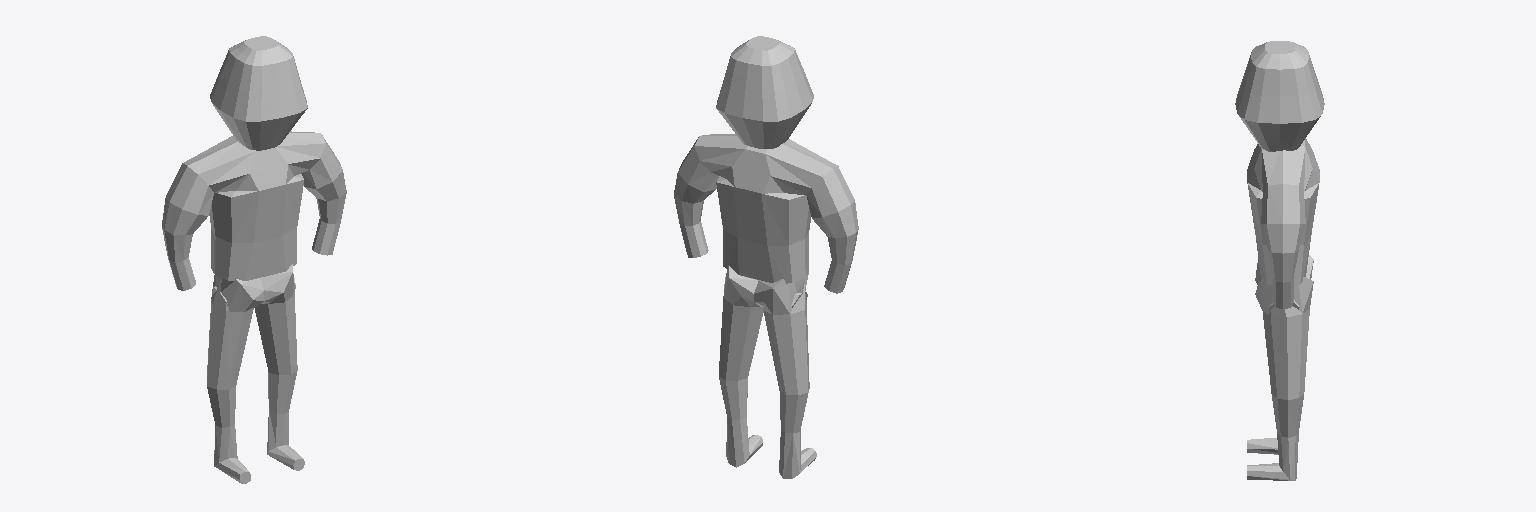
File: olduser.obj
The picture shows the model from 3 angles: view 1: azimuth 30°, elevation 25°; view 2: azimuth 150°, elevation 25°; view 3: azimuth 270°, elevation 25°; orthographic projection.
Visible parts, largest first — view 1: Mesh_0; view 2: Mesh_0; view 3: Mesh_0.
Part boxes in pixels (x1,y1,x2,y2): Mesh_0: (162, 36, 346, 483); Mesh_0: (674, 36, 858, 478); Mesh_0: (1235, 41, 1324, 480).
Bounding box in the file's own units: 0.2427 × 0.5445 × 0.1046.